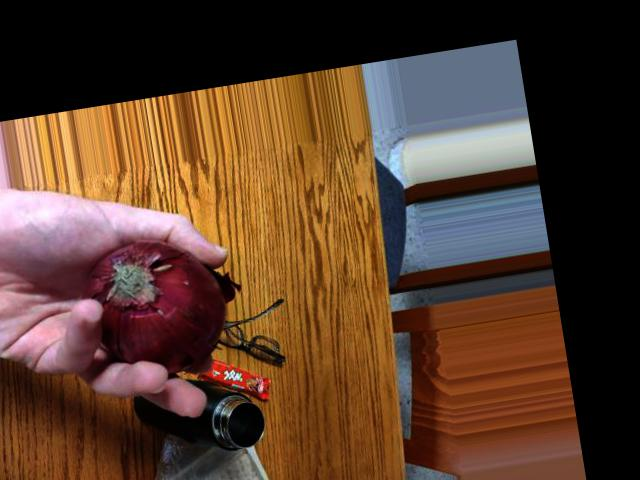onion: (82, 231, 218, 374)
